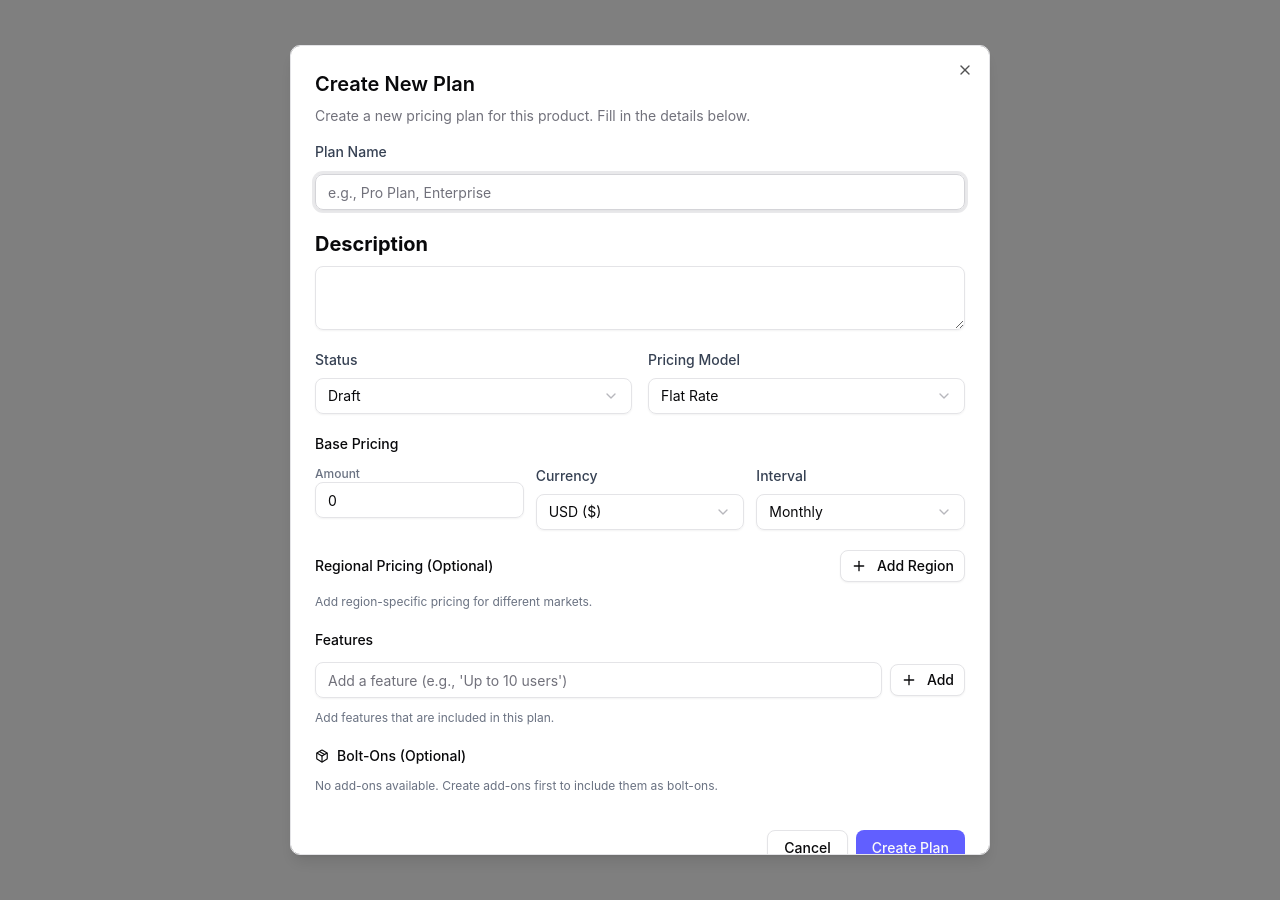
Test: ProductPlanDialog › Features Management › should add a feature when Enter is pressed
Step 1. Type "Priority support" into the field with placeholder "Add a feature (e.g., 'Up to 10 users')" → (598, 680), box x1=315 y1=662 x2=882 y2=698
Then press Enter
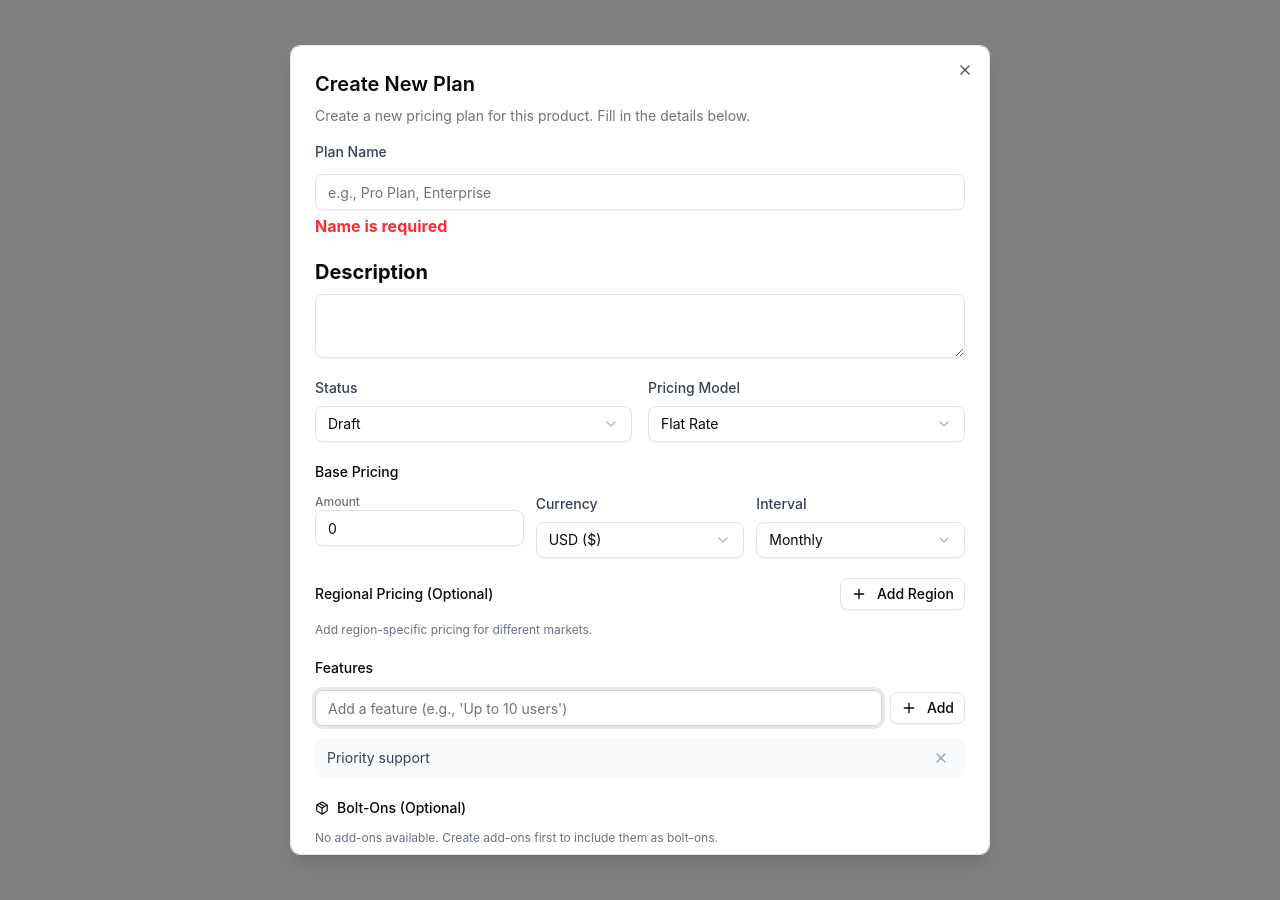
expect the text "Priority support" is shown: met, box x1=327 y1=748 x2=430 y2=768
